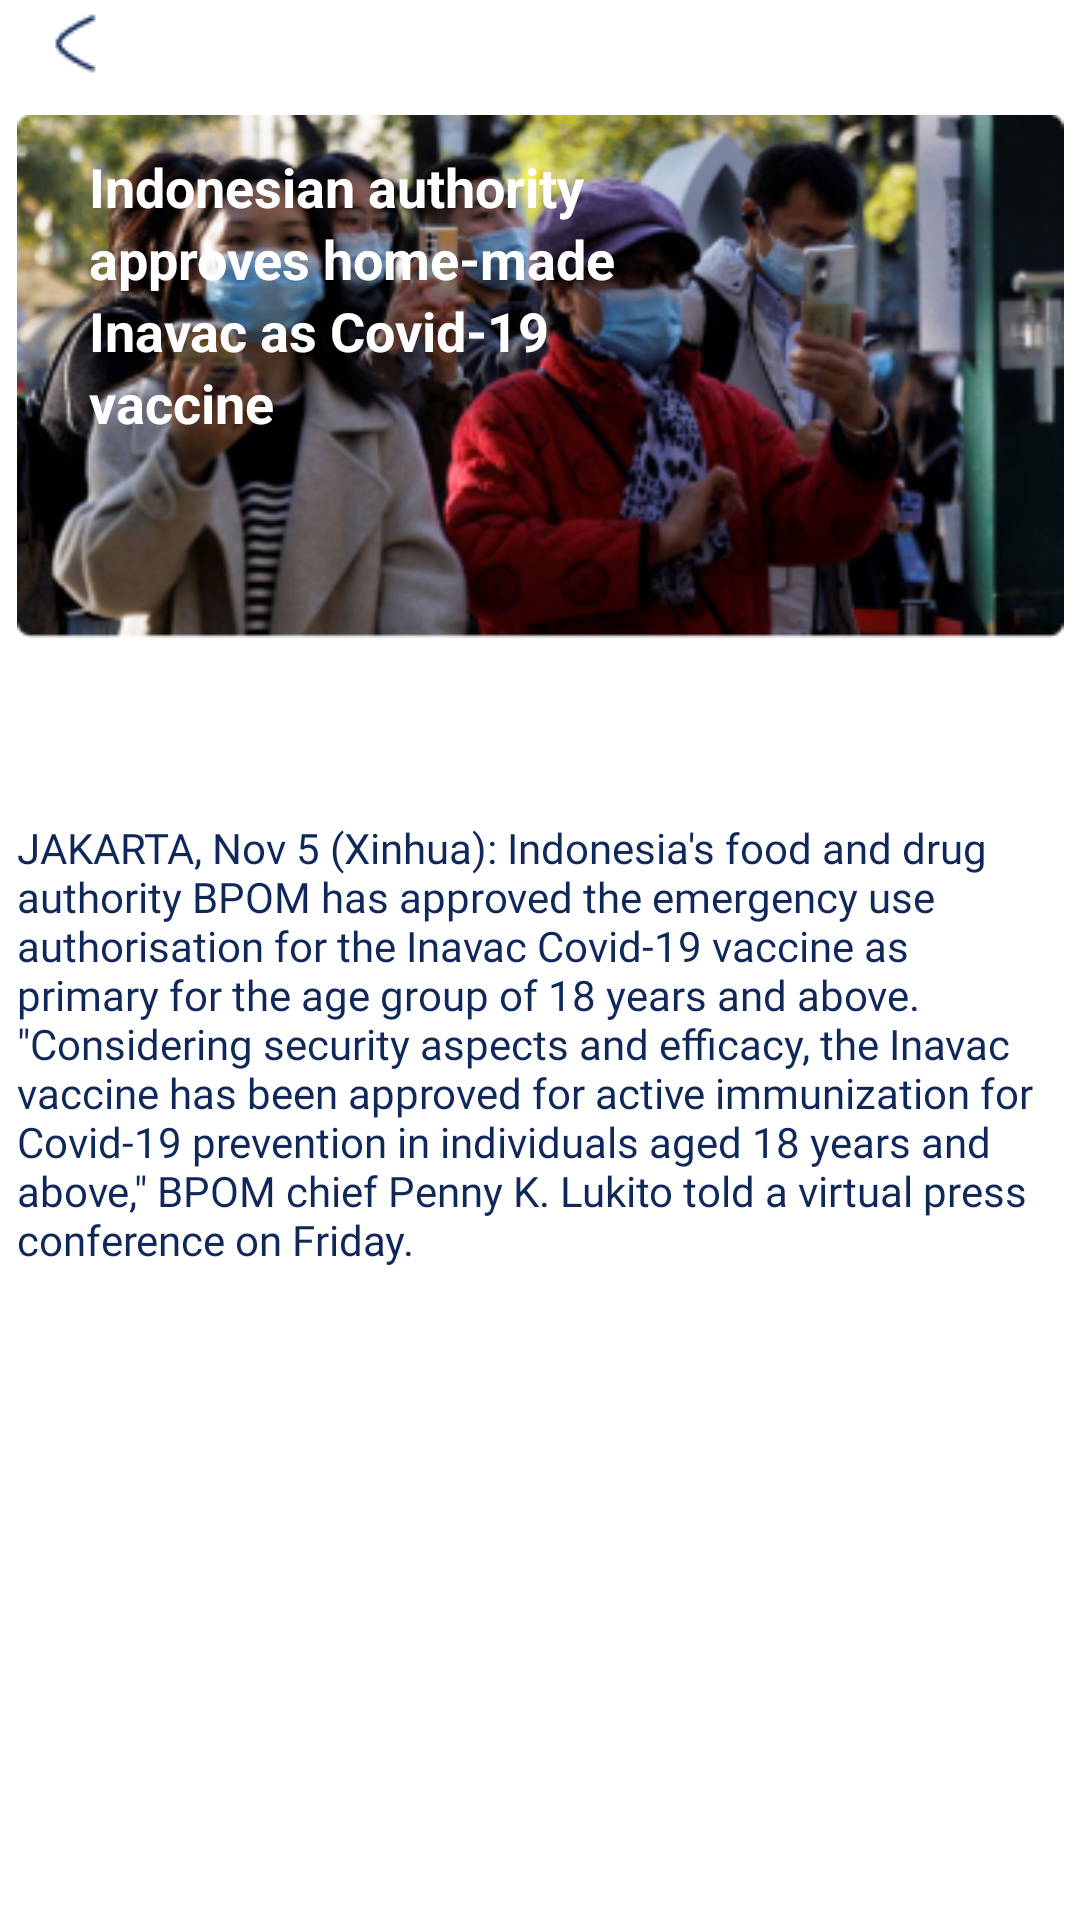

Icon click points for this 1080w x 1920h phone screenshot, format (x,y):
arrow left: (75,43)
